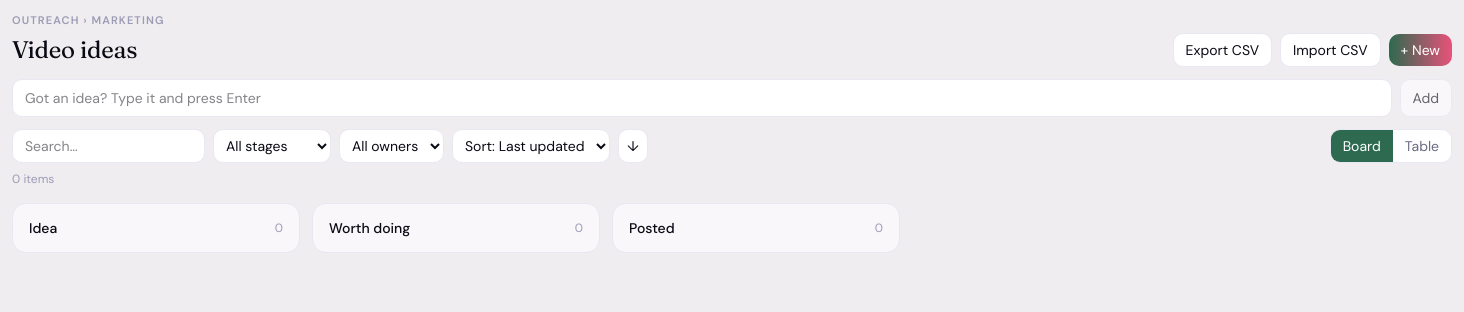
quick add on a board › Enter adds the idea to the first column, once, and clears the line
Type "Instructor reacts to learner's first roundabout" into the field with placeholder "Got an idea? Type it and press Enter" at (702, 98), box top-left (12, 78), bottom-right (1392, 116)
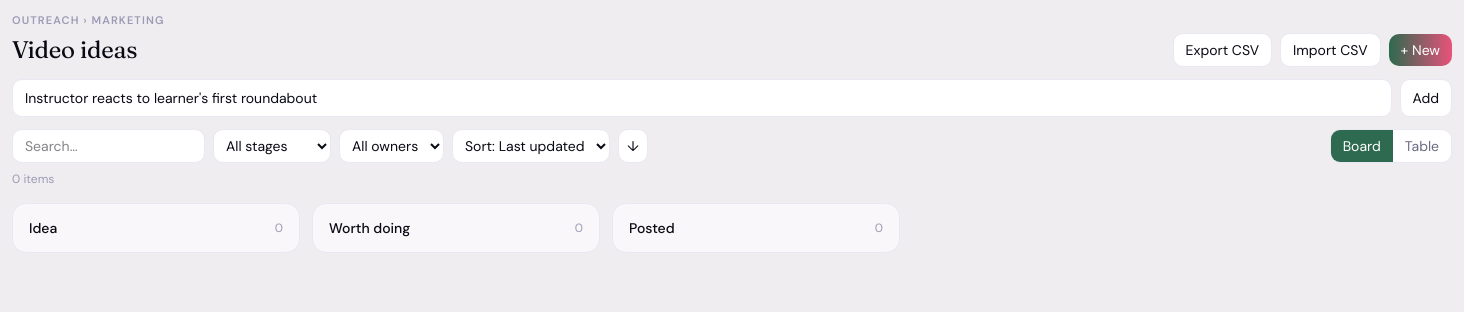
Submit the form with placeholder "Got an idea? Type it and press Enter", box top-left (12, 78), bottom-right (1452, 116)
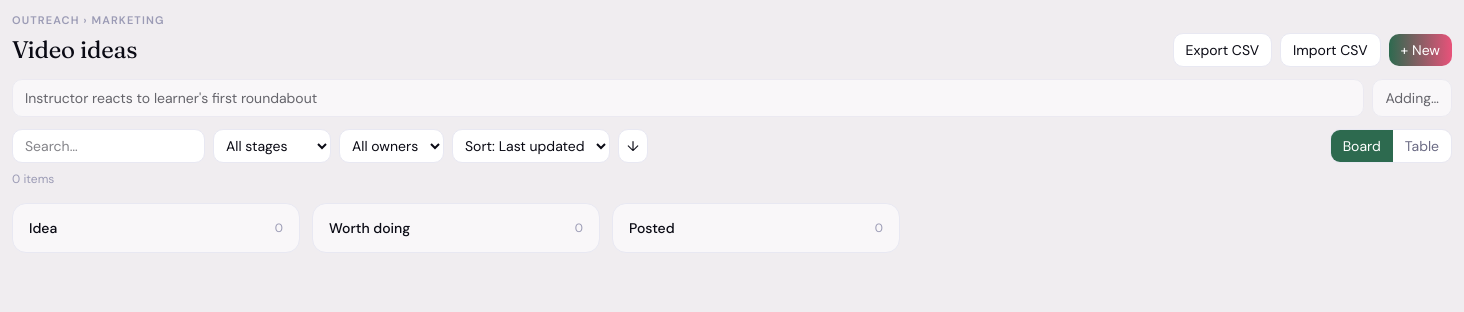
Submit the form with placeholder "Got an idea? Type it and press Enter", box top-left (12, 78), bottom-right (1452, 116)
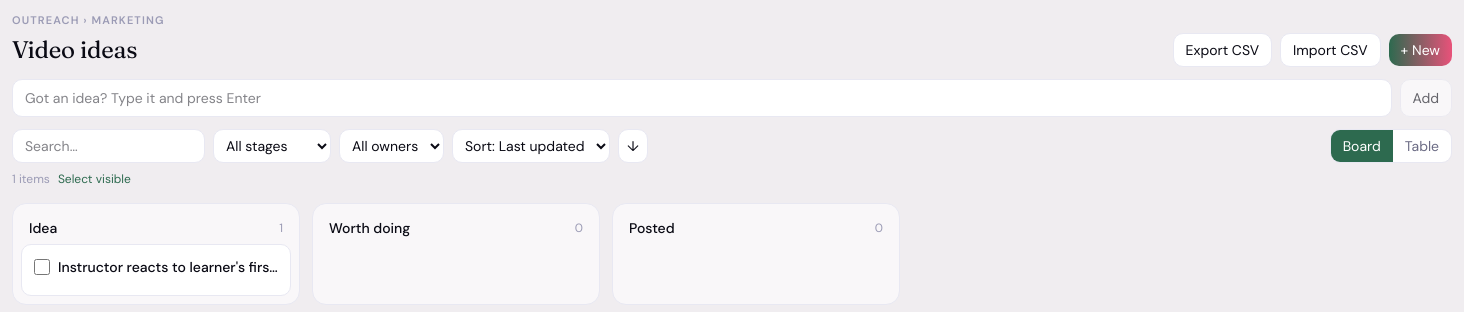
Result: the field with placeholder "Got an idea? Type it and press Enter" is empty at top-left (12, 78), bottom-right (1392, 116)
Result: the text "Instructor reacts to learner's first roundabout" is shown at top-left (58, 256), bottom-right (278, 276)
